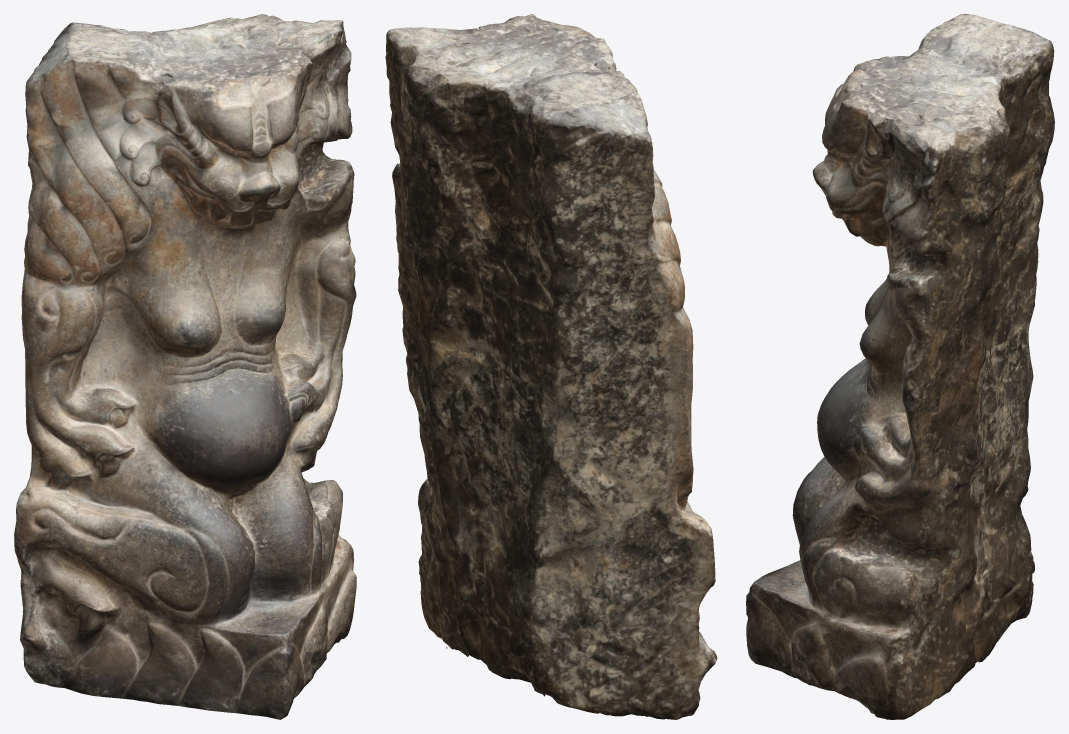
File: smithsonian-winged-monster-room.glb
3 renders of one model, left to right at view 1: azimuth 30°, elevation 25°; view 2: azimuth 150°, elevation 25°; view 3: azimuth 270°, elevation 25°, orthographic. The views are drawn at different scales.
Bounding box in the file's own units: 0.4925 × 0.8693 × 0.4064.
1 material, 1 textured.
